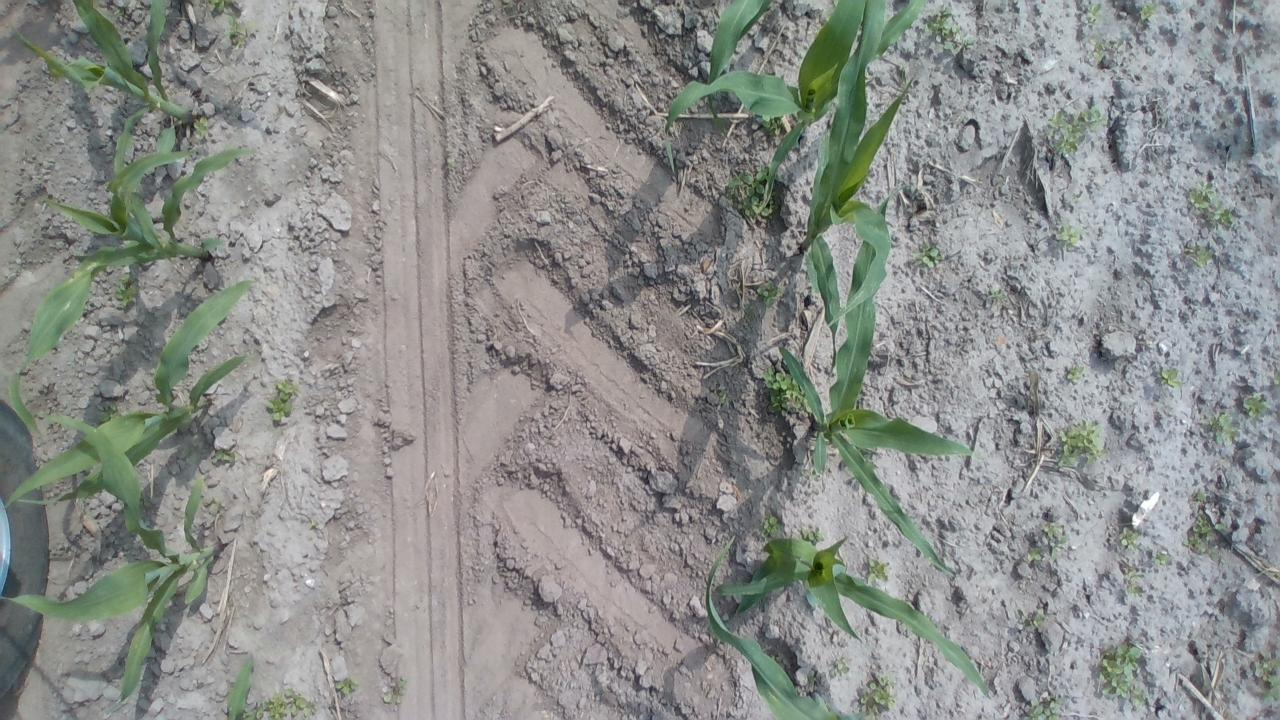Maize: (779, 184, 982, 577), (9, 148, 265, 437), (7, 415, 228, 706), (3, 279, 257, 507), (664, 0, 927, 174), (715, 537, 992, 700), (800, 0, 917, 385), (10, 0, 196, 216), (706, 534, 869, 719), (705, 0, 772, 130), (228, 652, 255, 718)
Weeds: (1046, 105, 1109, 156), (1096, 641, 1146, 705), (724, 164, 780, 219), (1056, 414, 1110, 468), (923, 4, 977, 56), (1187, 178, 1233, 232), (244, 687, 318, 720), (1182, 510, 1226, 560), (764, 363, 802, 411), (1196, 410, 1239, 446), (1253, 648, 1280, 705), (267, 379, 299, 427), (860, 671, 896, 712), (1022, 692, 1066, 720), (222, 13, 254, 51), (1043, 520, 1071, 560), (1078, 34, 1108, 66), (1120, 564, 1146, 598), (912, 240, 942, 269), (1053, 220, 1084, 248), (382, 674, 410, 704), (114, 274, 138, 308), (1183, 242, 1214, 268), (756, 280, 784, 308), (867, 556, 891, 586), (1241, 393, 1268, 417), (1017, 607, 1047, 628), (828, 654, 852, 679), (1117, 526, 1140, 552), (760, 515, 784, 538), (1085, 3, 1103, 30), (1160, 368, 1184, 388), (801, 527, 827, 545), (336, 676, 358, 697), (761, 115, 783, 136), (191, 116, 210, 140), (98, 401, 120, 421), (214, 448, 237, 466), (208, 0, 236, 13), (1150, 551, 1174, 566), (1026, 545, 1044, 564), (204, 496, 221, 516), (1140, 2, 1158, 20), (1066, 364, 1085, 380), (112, 6, 128, 23), (184, 444, 200, 460), (804, 466, 820, 482), (988, 286, 1006, 300), (1192, 487, 1208, 502), (1071, 189, 1087, 203), (138, 494, 152, 507), (717, 390, 730, 404), (1113, 38, 1125, 52), (743, 305, 753, 316), (772, 654, 784, 662), (808, 674, 816, 684), (1273, 373, 1280, 384), (310, 520, 321, 526)
